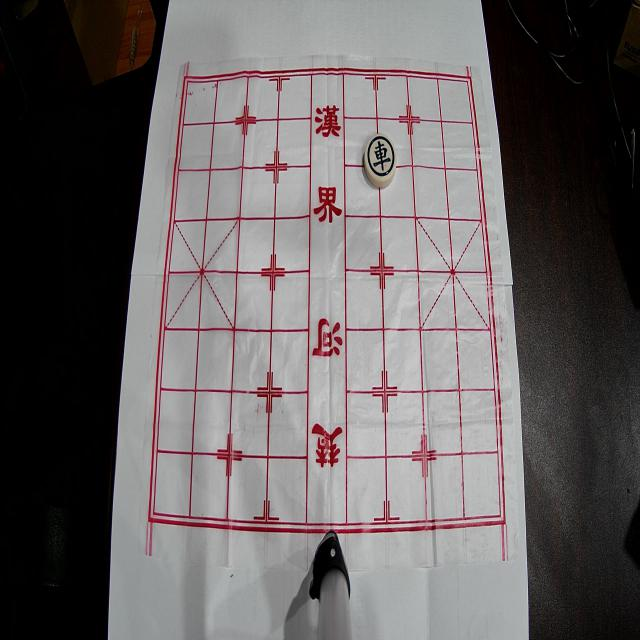black-chariot: (364, 134, 397, 188)
